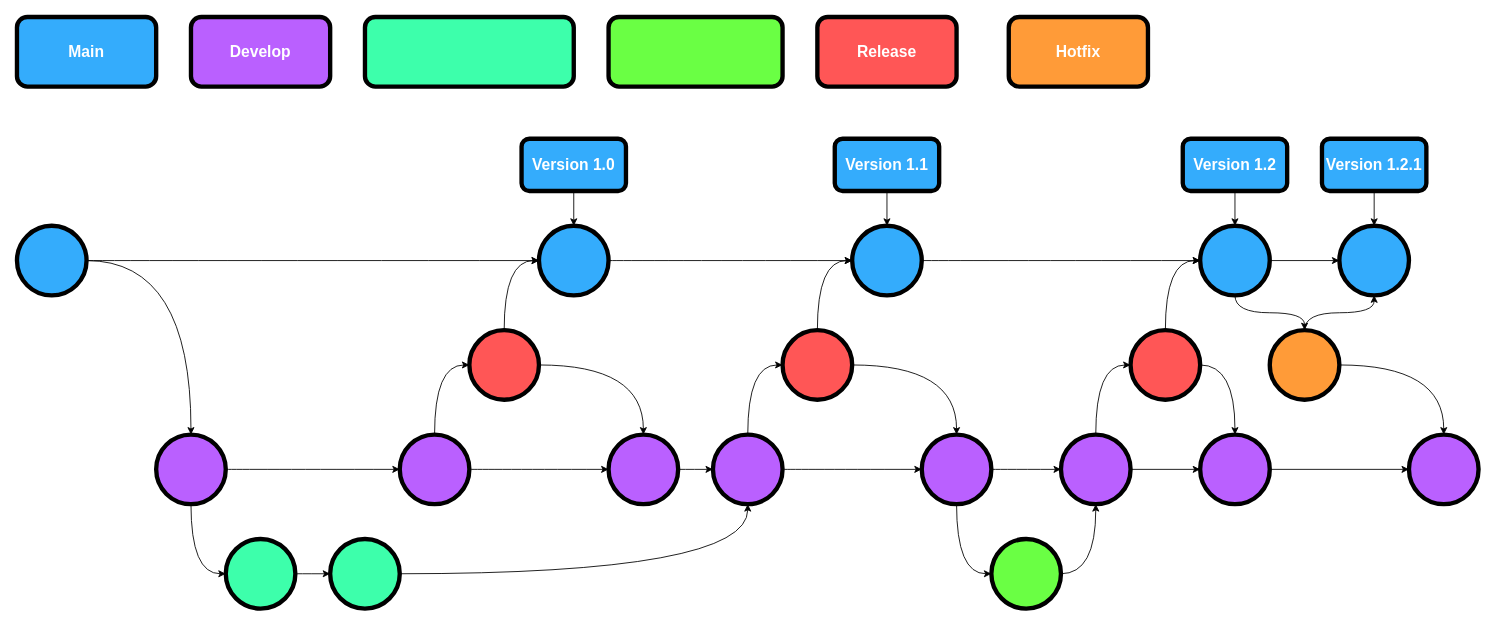
Some shapes in this 1496 by 626 pixel diagram are drawn without their labels. Here are the shapes that lost their labels. From the top down, the centre of each, then its label:
At pixel 469 51: "Feature/Backend".
At pixel 695 51: "Feature/Frontend".
